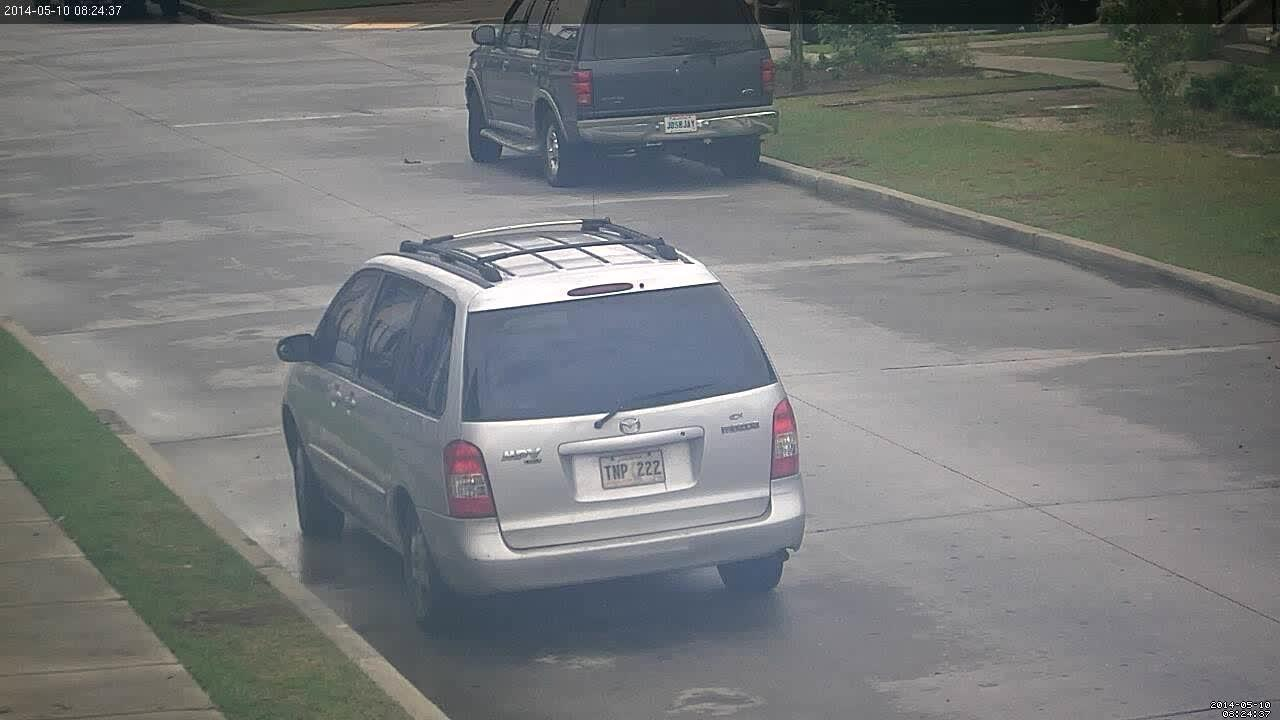placa de veiculo: (585, 436, 682, 504), (653, 107, 709, 145)
